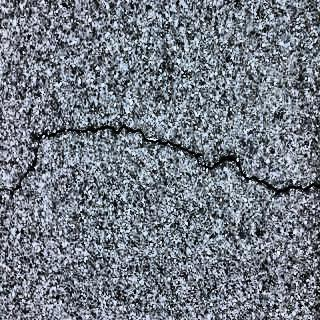crack: (2, 114, 320, 194)
